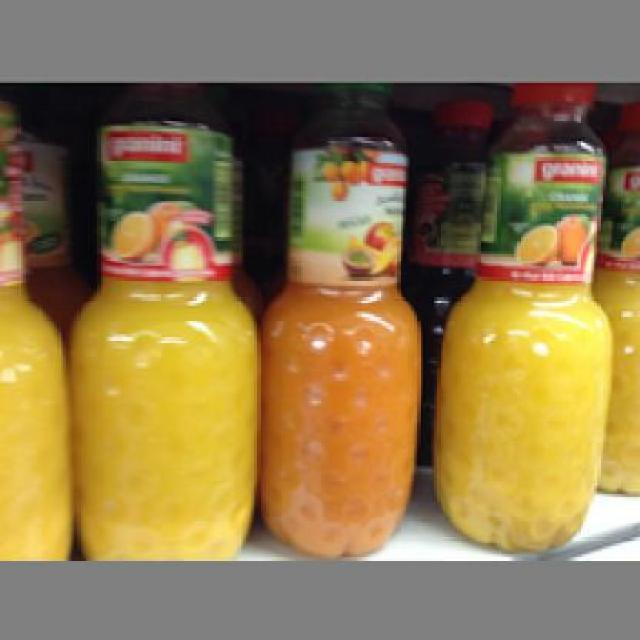Juice: (62, 79, 258, 555), (426, 77, 612, 546), (257, 82, 420, 548)
